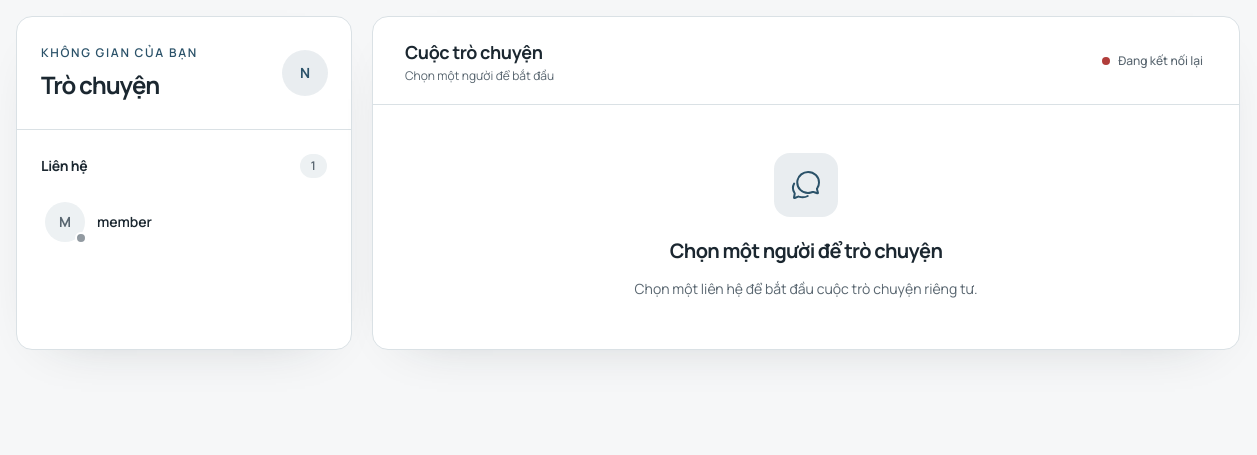
Test: sends through the conversation API and keeps one composer focus ring
Later steps or results of the test are not shown.
Click the button "M member": click(65, 222) 33,190 -> 335,254
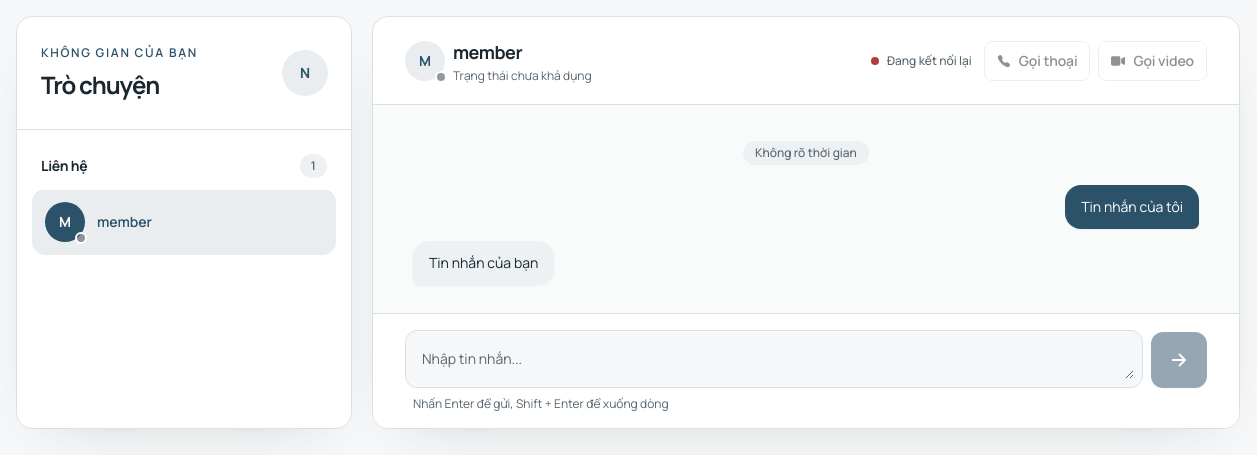
Expected: the text "Tin nhắn của tôi" is shown, 1065,185 -> 1199,229
Press the mouse on the label named "Tin nhắn mới": (774, 359) 405,330 -> 1143,388
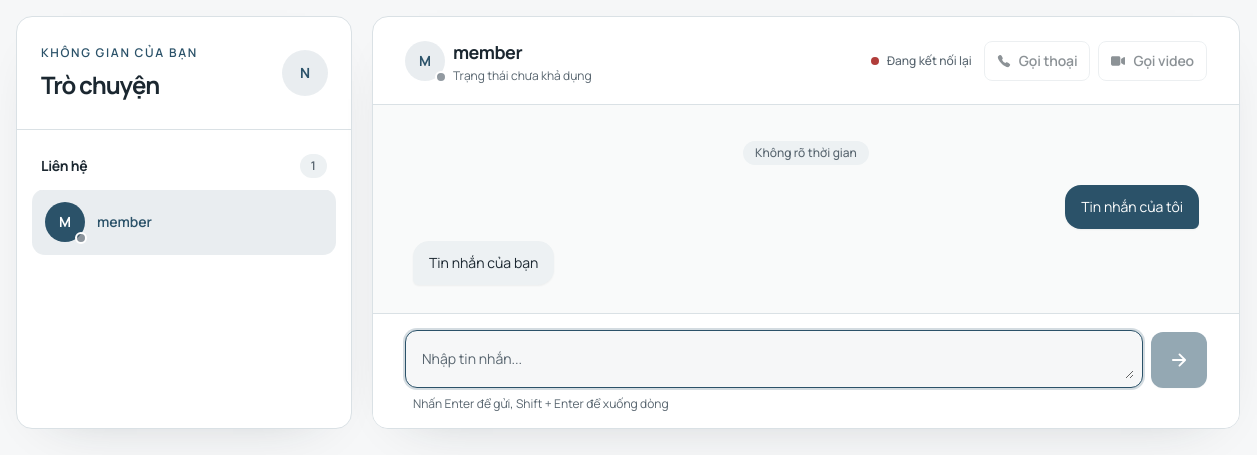
Click the label named "Tin nhắn mới": click(774, 359) 405,330 -> 1143,388
In the text box named "Tin nhắn mới": (774, 359) 414,339 -> 1134,379, type "Hello"
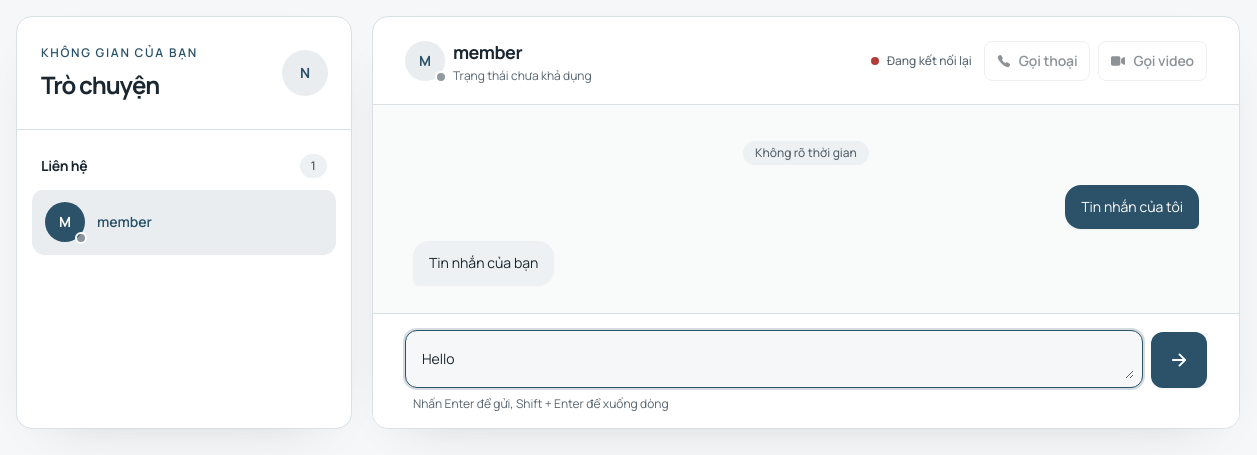
Expected: the button named "Gửi tin nhắn" is enabled, 1151,332 -> 1207,388
